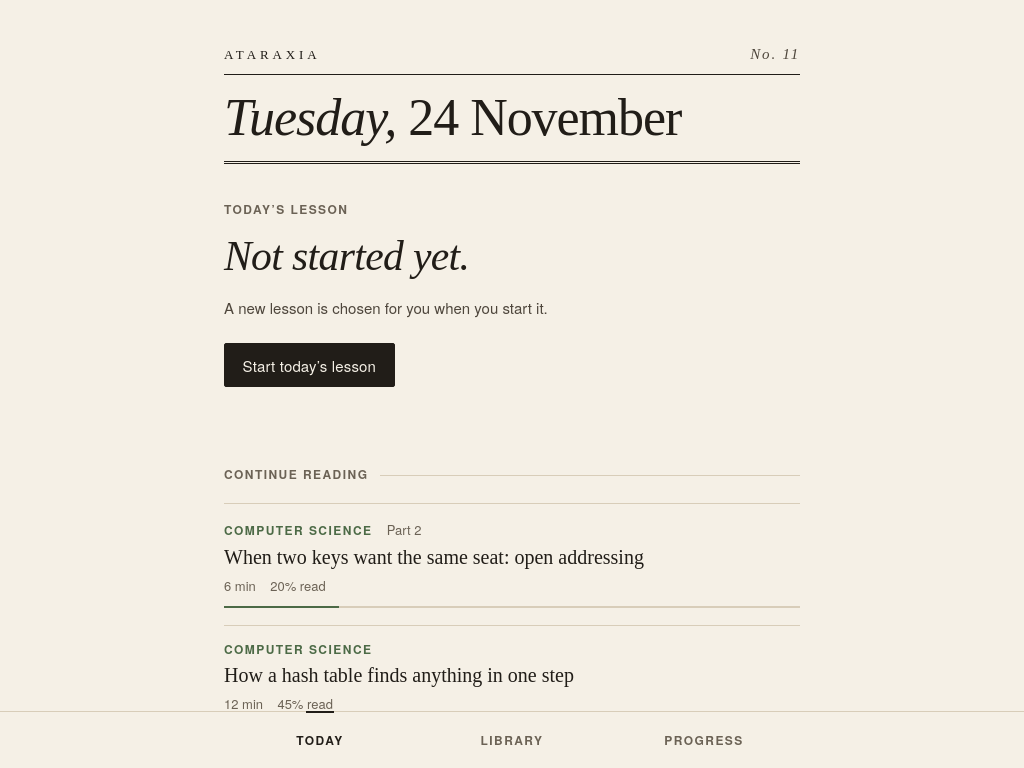
Test: Today › starts the daily lesson when none is scheduled
The width and height of the screenshot is (1024, 768).
Click the button "Start today’s lesson" at (309, 365), box [224,343,395,387]
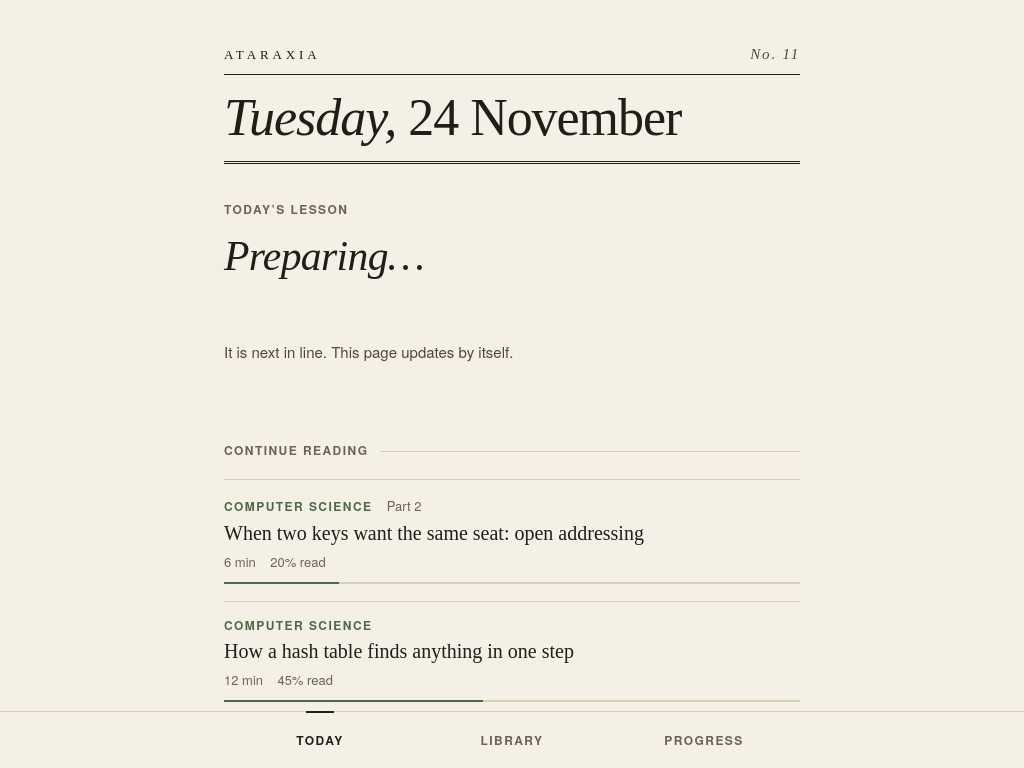
Expected: the heading "Preparing…" is shown, [224,233,424,279]
